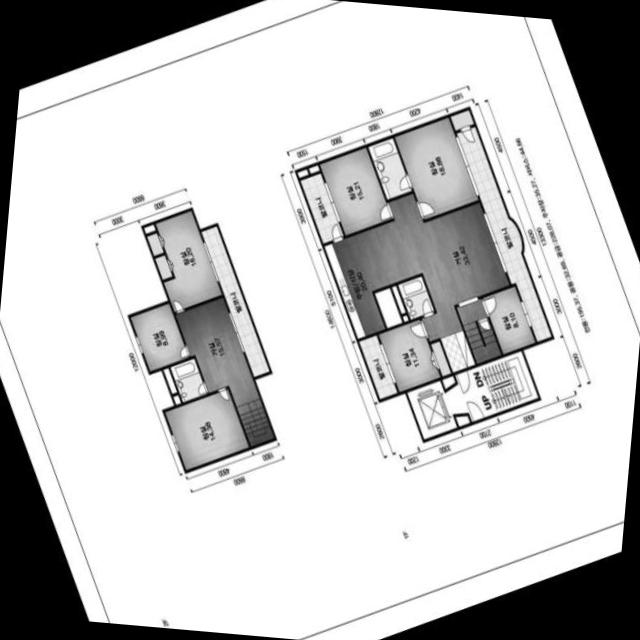background: (0, 0, 640, 640)
space_balconi: (457, 127, 551, 341), (201, 226, 269, 377), (300, 173, 343, 243), (359, 335, 397, 399)
space_bedroom: (395, 117, 478, 219), (155, 210, 222, 311), (165, 389, 249, 469), (319, 147, 392, 235), (378, 319, 440, 391), (130, 303, 188, 371), (483, 286, 535, 354), (431, 341, 451, 376), (155, 255, 172, 279), (147, 233, 163, 255)
space_elevator: (407, 380, 457, 439)
space_front: (440, 330, 475, 372)
space_kitchen: (324, 236, 385, 338)
space_living_room: (352, 194, 509, 341), (175, 297, 260, 406)
space_other: (374, 287, 402, 328), (450, 109, 474, 130), (392, 285, 405, 314), (163, 367, 177, 393), (442, 375, 455, 389), (455, 415, 470, 426), (297, 168, 308, 178), (144, 224, 155, 234), (309, 165, 320, 173), (173, 394, 181, 404), (402, 314, 408, 322)
space_staircase: (445, 351, 538, 422), (456, 299, 501, 363), (236, 398, 274, 446)
space_toilet: (368, 137, 412, 199), (170, 358, 207, 402), (397, 276, 434, 319)
